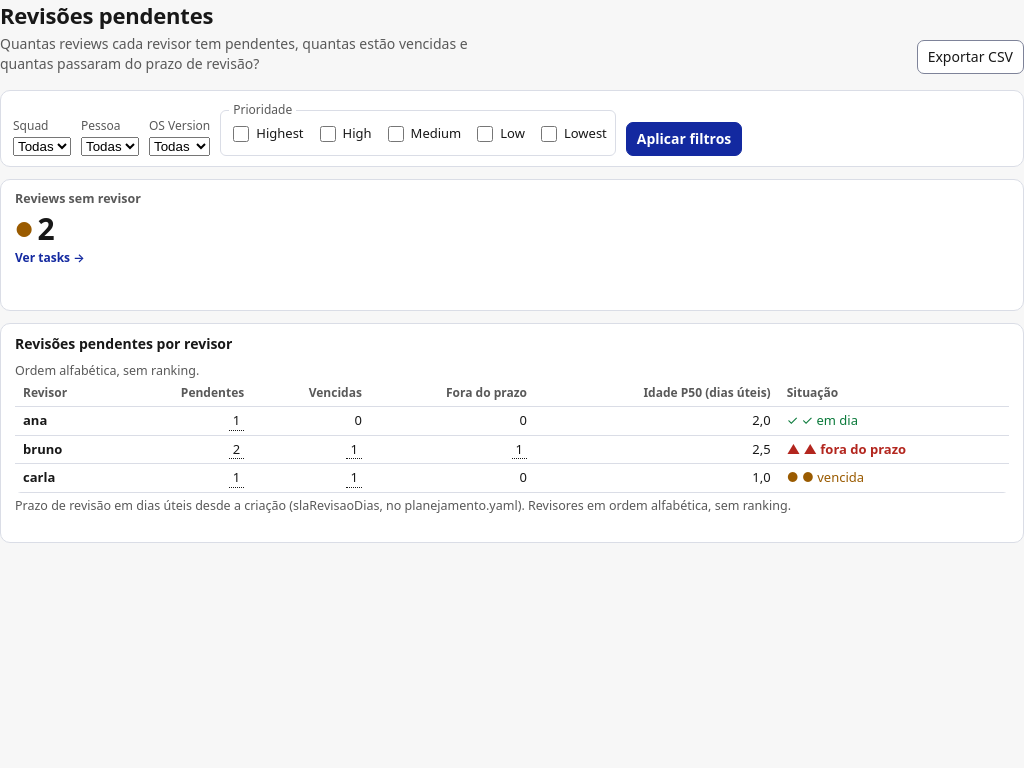
tela Revisões pendentes por revisor › contagemAbreAGavetaComMesmoTamanho
The image size is (1024, 768).
Click the button named "bruno Fora do prazo: 1" at x=519, y=449, box [512, 440, 527, 459]
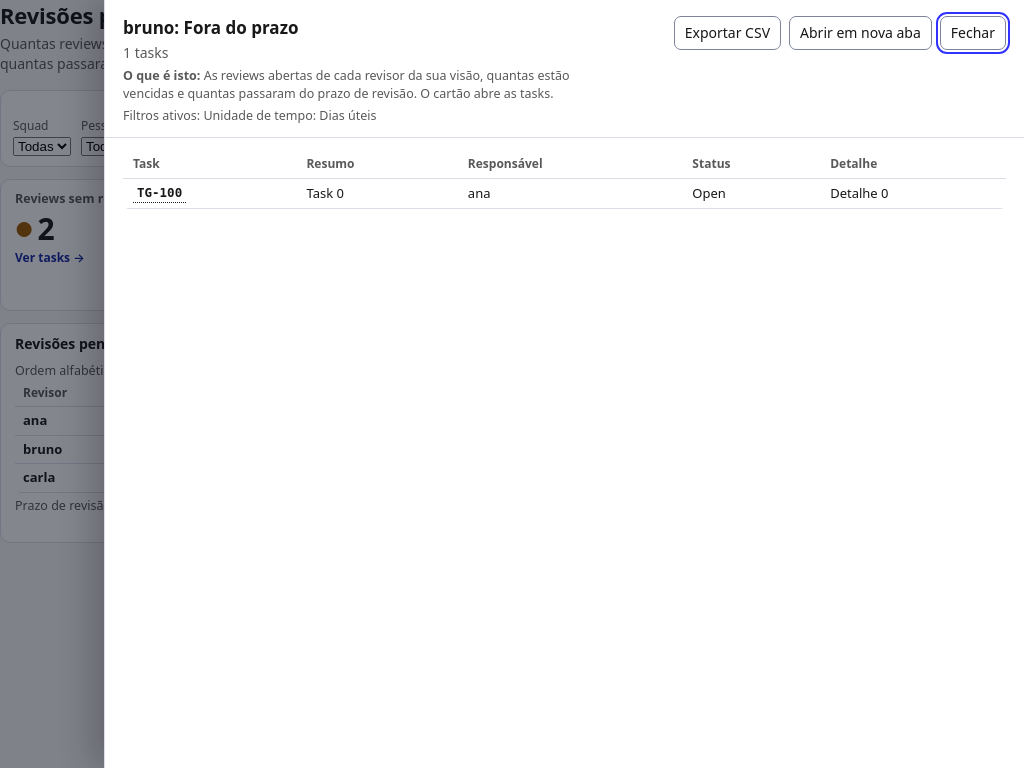
Expected: the text "1 tasks" is shown, [123, 43, 168, 62]
